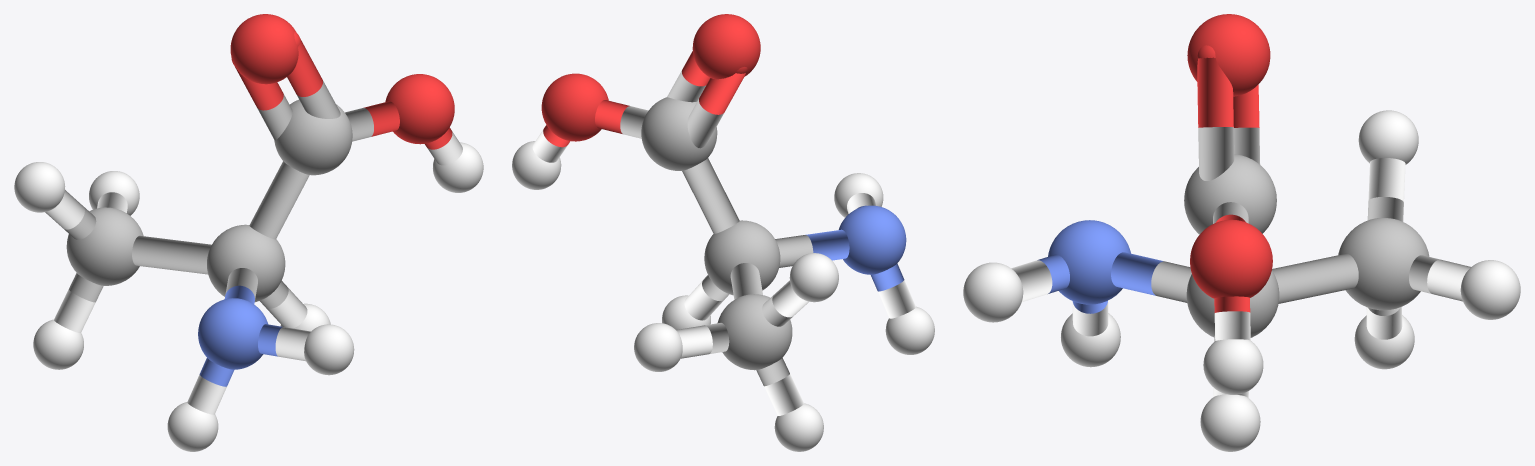
The model's file is LAlanine.fbx.
The picture shows the model from 3 angles, left to right: view 1: azimuth 30°, elevation 25°; view 2: azimuth 150°, elevation 25°; view 3: azimuth 270°, elevation 25°; orthographic projection. The views are drawn at different scales.
Visible parts, largest first — view 1: C5_Atom, C6_Atom, C4_Atom, O2_Atom, N3_Atom, O1_Atom, Cylinder10, Cylinder9, H10_Atom, H12_Atom, H8_Atom, H11_Atom (+20 smaller); view 2: C5_Atom, C4_Atom, C6_Atom, N3_Atom, O2_Atom, O1_Atom, Cylinder9, H10_Atom, H9_Atom, H8_Atom, H11_Atom, H13_Atom (+21 smaller); view 3: C5_Atom, O1_Atom, N3_Atom, C6_Atom, O2_Atom, Cylinder10, H12_Atom, H9_Atom, H7_Atom, H13_Atom, H10_Atom, C4_Atom (+18 smaller).
Part boxes in pixels (left/top/right/bottom): C5_Atom: left=66, top=207, right=143, bottom=285; C6_Atom: left=274, top=99, right=352, bottom=175; C4_Atom: left=207, top=224, right=285, bottom=302; O2_Atom: left=230, top=14, right=298, bottom=84; N3_Atom: left=198, top=298, right=267, bottom=369; O1_Atom: left=385, top=74, right=454, bottom=144; Cylinder10: left=132, top=235, right=211, bottom=274; Cylinder9: left=249, top=161, right=309, bottom=239; H10_Atom: left=14, top=162, right=65, bottom=212; H12_Atom: left=304, top=324, right=354, bottom=375; H8_Atom: left=33, top=319, right=83, bottom=369; H11_Atom: left=167, top=402, right=218, bottom=451; C5_Atom: left=717, top=294, right=792, bottom=370; C4_Atom: left=704, top=220, right=780, bottom=295; C6_Atom: left=641, top=97, right=717, bottom=170; N3_Atom: left=838, top=205, right=906, bottom=274; O2_Atom: left=692, top=14, right=760, bottom=79; O1_Atom: left=541, top=73, right=608, bottom=141; Cylinder9: left=682, top=158, right=739, bottom=233; H10_Atom: left=789, top=253, right=838, bottom=302; H9_Atom: left=634, top=323, right=682, bottom=371; H8_Atom: left=774, top=403, right=823, bottom=451; H11_Atom: left=885, top=306, right=934, bottom=354; H13_Atom: left=512, top=141, right=561, bottom=189; C5_Atom: left=1338, top=218, right=1429, bottom=310; O1_Atom: left=1190, top=219, right=1272, bottom=298; N3_Atom: left=1048, top=220, right=1130, bottom=304; C6_Atom: left=1184, top=154, right=1276, bottom=234; O2_Atom: left=1187, top=14, right=1270, bottom=96; Cylinder10: left=1272, top=253, right=1358, bottom=303; H12_Atom: left=963, top=262, right=1023, bottom=322; H9_Atom: left=1460, top=260, right=1520, bottom=319; H7_Atom: left=1200, top=394, right=1260, bottom=451; H13_Atom: left=1203, top=339, right=1263, bottom=394; H10_Atom: left=1358, top=110, right=1418, bottom=164; C4_Atom: left=1186, top=271, right=1279, bottom=337.
Size of the model in its own units: 455 by 399 by 469.
